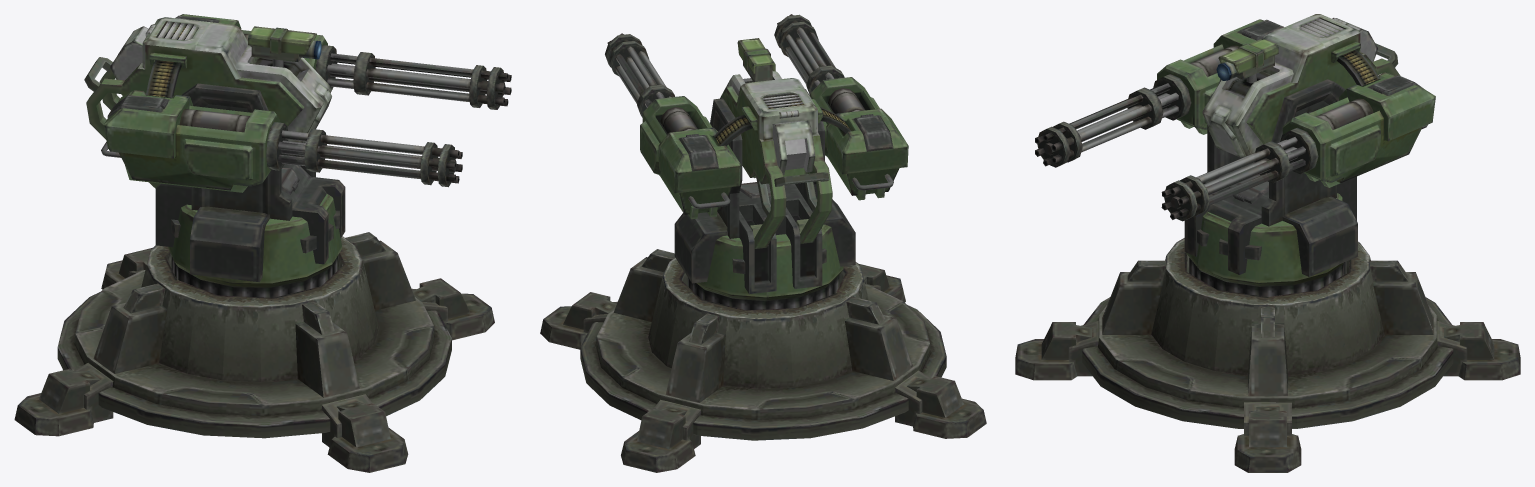
Rendered from as_basedefensegun.fbx.
3 views of the same model, side by side, from view 1: azimuth 30°, elevation 25°; view 2: azimuth 150°, elevation 25°; view 3: azimuth 270°, elevation 25° (orthographic). The views are drawn at different scales.
Parts seen in each view (by area): view 1: AS_BaseDefenseGun_main; view 2: AS_BaseDefenseGun_main; view 3: AS_BaseDefenseGun_main.
Part boxes in pixels (box(x1,y1,x2,y2)): AS_BaseDefenseGun_main: box(14, 14, 511, 472); AS_BaseDefenseGun_main: box(540, 14, 986, 472); AS_BaseDefenseGun_main: box(1015, 14, 1520, 472).
Bounding box in the file's own units: 195 × 138 × 195.
2 materials, 1 textured.
